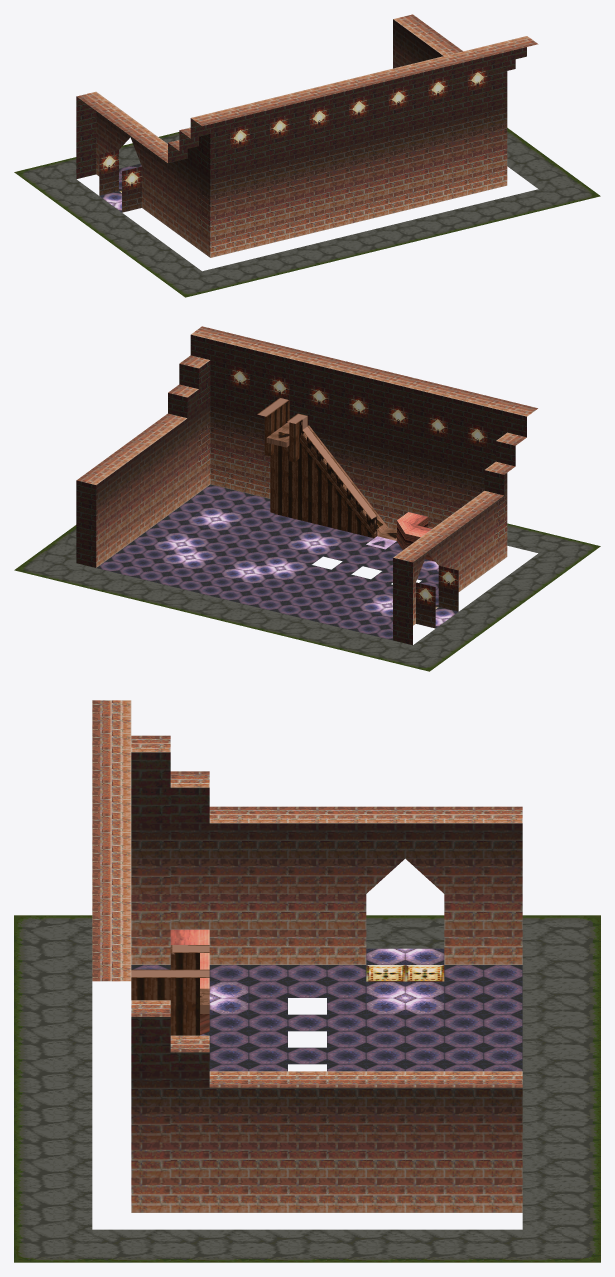
The model's file is catalog.obj.
The picture shows the model from 3 angles, top to bottom: view 1: azimuth 30°, elevation 25°; view 2: azimuth 150°, elevation 25°; view 3: azimuth 270°, elevation 25°; orthographic projection. The views are drawn at different scales.
Visible parts, largest first — view 1: cell_18_8, cell_10_8, cell_14_8, cell_13_8, cell_23_8, cell_9_8, cell_19_8, cell_15_8, cell_16_8, cell_20_8, cell_12_8, cell_22_8 (+18 smaller); view 2: cell_9_8, cell_10_8, cell_18_8, cell_17_8, cell_8_18, cell_11_8, cell_19_8, cell_20_8, cell_16_8, cell_14_10, cell_21_8, cell_8_9 (+30 smaller); view 3: cell_24_9, cell_8_9, cell_8_10, cell_24_10, cell_24_17, cell_24_11, cell_24_12, cell_24_14, cell_24_18, cell_24_13, cell_8_11, cell_8_12 (+11 smaller).
Part boxes in pixels (x1=…): cell_18_8: x1=309, y1=84, x2=340, y2=233; cell_10_8: x1=467, y1=45, x2=498, y2=194; cell_14_8: x1=388, y1=65, x2=419, y2=214; cell_13_8: x1=408, y1=60, x2=438, y2=209; cell_23_8: x1=210, y1=108, x2=241, y2=257; cell_9_8: x1=487, y1=40, x2=517, y2=190; cell_19_8: x1=289, y1=89, x2=320, y2=238; cell_15_8: x1=368, y1=69, x2=399, y2=219; cell_16_8: x1=349, y1=74, x2=379, y2=223; cell_20_8: x1=270, y1=94, x2=300, y2=243; cell_12_8: x1=428, y1=55, x2=458, y2=204; cell_22_8: x1=230, y1=103, x2=260, y2=252; cell_9_8: x1=210, y1=331, x2=240, y2=488; cell_10_8: x1=230, y1=336, x2=260, y2=493; cell_18_8: x1=388, y1=374, x2=419, y2=529; cell_17_8: x1=368, y1=369, x2=399, y2=527; cell_8_18: x1=76, y1=472, x2=107, y2=567; cell_11_8: x1=250, y1=341, x2=280, y2=498; cell_19_8: x1=408, y1=379, x2=439, y2=516; cell_20_8: x1=428, y1=384, x2=458, y2=528; cell_16_8: x1=349, y1=365, x2=379, y2=501; cell_14_10: x1=287, y1=413, x2=317, y2=529; cell_21_8: x1=448, y1=389, x2=478, y2=516; cell_8_9: x1=179, y1=355, x2=210, y2=492; cell_24_9: x1=131, y1=735, x2=170, y2=964; cell_8_9: x1=131, y1=1000, x2=170, y2=1212; cell_8_10: x1=170, y1=1035, x2=209, y2=1212; cell_24_10: x1=170, y1=771, x2=209, y2=929; cell_24_17: x1=444, y1=806, x2=483, y2=964; cell_24_11: x1=209, y1=806, x2=248, y2=964; cell_24_12: x1=248, y1=806, x2=287, y2=964; cell_24_14: x1=327, y1=806, x2=366, y2=964; cell_24_18: x1=483, y1=806, x2=522, y2=964; cell_24_13: x1=288, y1=806, x2=326, y2=964; cell_8_11: x1=209, y1=1071, x2=248, y2=1212; cell_8_12: x1=248, y1=1071, x2=287, y2=1212.
Size of the model in its own units: 0.3281 by 0.1094 by 0.2344.
Materials: 14 (14 with a texture image).
